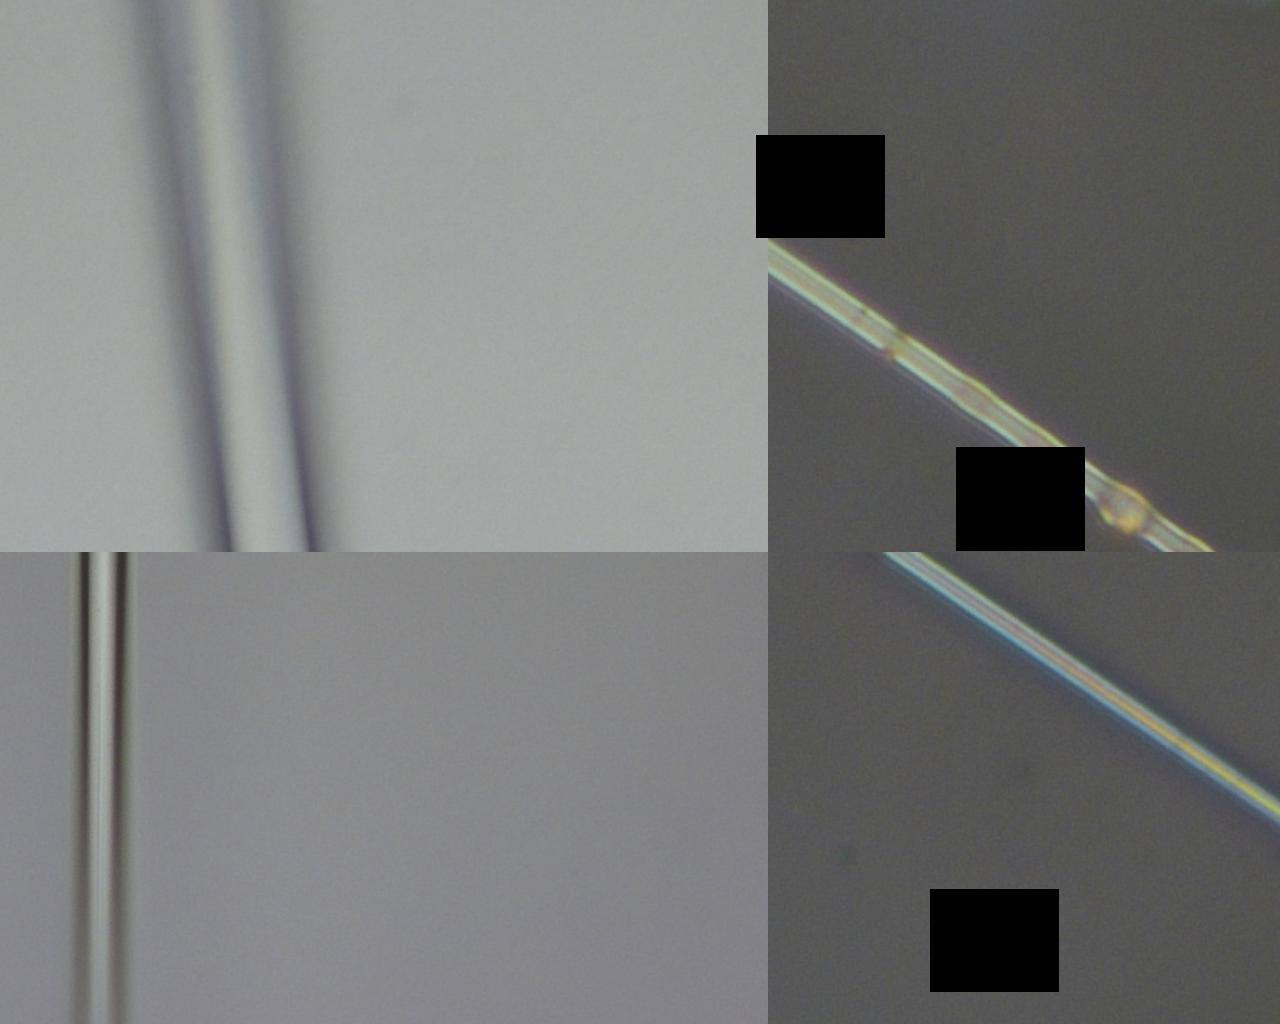fiber: (747, 460, 1150, 1024), (390, 460, 493, 1024), (822, 0, 934, 460)
